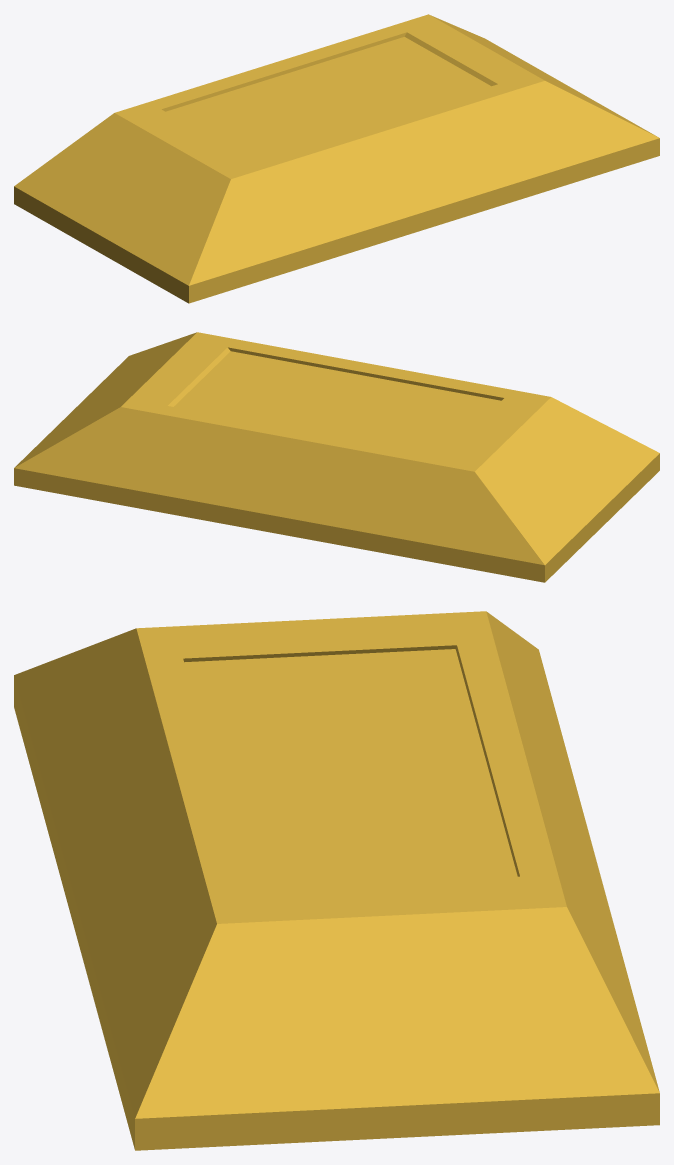
File: GoldBar01.fbx
3 renders of one model, top to bottom at view 1: azimuth 30°, elevation 25°; view 2: azimuth 150°, elevation 25°; view 3: azimuth 270°, elevation 25°, orthographic. The views are drawn at different scales.
Parts seen in each view (by area): view 1: Cube; view 2: Cube; view 3: Cube.
Boxes of the visible parts, left/top/right/bottom form: Cube: left=14, top=14, right=659, bottom=303; Cube: left=14, top=332, right=659, bottom=582; Cube: left=14, top=611, right=659, bottom=1150.
Bounding box in the file's own units: 630 × 91.33 × 367.
